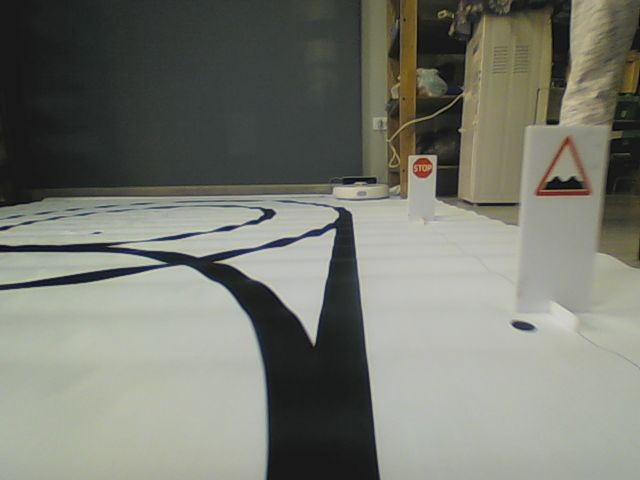Stop: (411, 157, 433, 179)
